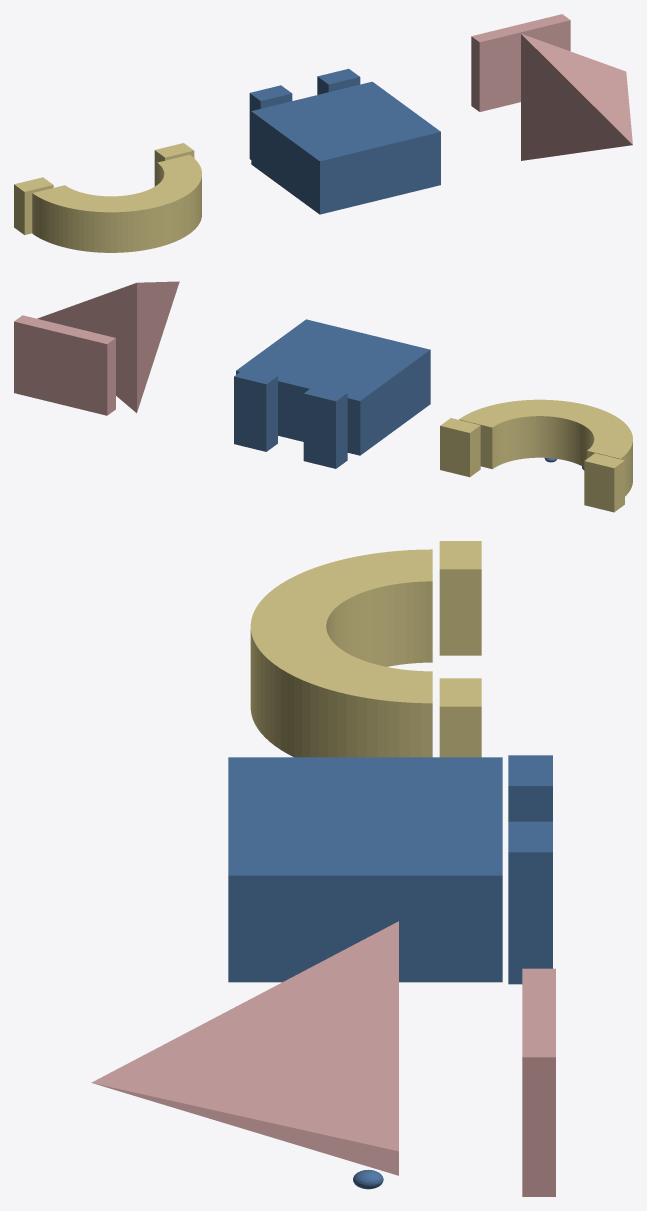
File: PLAYFORM_CHARACTER_TRIO.glb
3 views of the same model, one above another, from view 1: azimuth 30°, elevation 25°; view 2: azimuth 150°, elevation 25°; view 3: azimuth 270°, elevation 25° (orthographic). The views are drawn at different scales.
Visible parts, largest first — view 1: BEM_body, PIP_wedge_body, LULO_body, PIP_feet, LULO_left_foot, BEM_foot_left, BEM_foot_right, LULO_right_foot; view 2: BEM_body, LULO_body, PIP_feet, PIP_wedge_body, BEM_foot_left, BEM_foot_right, LULO_left_foot, LULO_right_foot; view 3: BEM_body, PIP_wedge_body, LULO_body, PIP_feet, BEM_foot_right, LULO_left_foot, LULO_right_foot, BEM_foot_left.
Boxes of the visible parts, x1,y1,x2,y2 form: BEM_body: (251,81,440,214); PIP_wedge_body: (521,33,632,160); LULO_body: (32,154,201,252); PIP_feet: (471,14,570,111); LULO_left_foot: (14,177,53,234); BEM_foot_left: (249,85,292,159); BEM_foot_right: (317,68,360,94); LULO_right_foot: (154,143,194,186); BEM_body: (236,319,430,455); LULO_body: (459,399,632,496); PIP_feet: (14,315,115,415); PIP_wedge_body: (37,281,179,412); BEM_foot_left: (303,385,347,468); BEM_foot_right: (234,368,277,451); LULO_left_foot: (584,453,624,512); LULO_right_foot: (440,418,480,477); BEM_body: (228,757,502,982); PIP_wedge_body: (91,921,398,1175); LULO_body: (250,549,432,757); PIP_feet: (522,968,555,1196); BEM_foot_right: (508,821,552,984); LULO_left_foot: (439,541,481,655); LULO_right_foot: (439,678,481,757); BEM_foot_left: (508,755,552,821).
Bounding box in the file's own units: 4.88 × 1 × 1.66.
